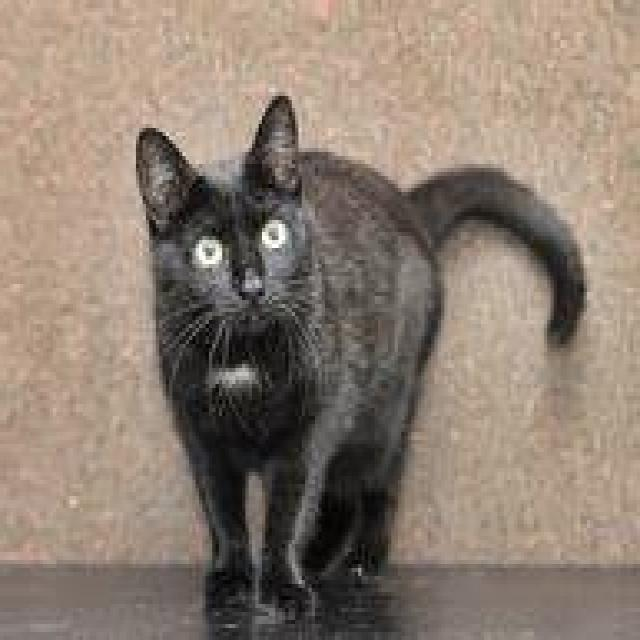KEDI: (142, 86, 586, 632)
